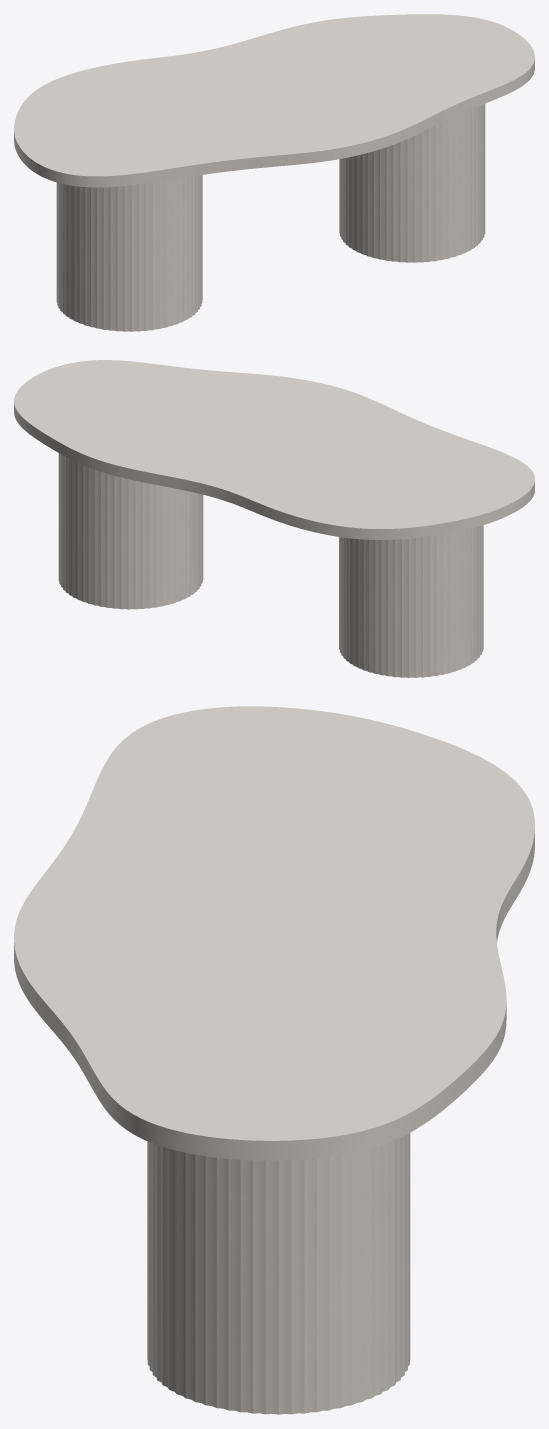
The model's file is pearlwhite_toplast_standard_ripplesecond.glb.
The picture shows the model from 3 angles, top to bottom: view 1: azimuth 30°, elevation 25°; view 2: azimuth 150°, elevation 25°; view 3: azimuth 270°, elevation 25°; orthographic projection. The views are drawn at different scales.
Visible parts, largest first — view 1: standard_toplast, ripplesecond; view 2: standard_toplast, ripplesecond; view 3: standard_toplast, ripplesecond.
Part boxes in pixels (left/top/right/bottom): standard_toplast: left=14, top=14, right=534, bottom=187; ripplesecond: left=56, top=104, right=485, bottom=331; standard_toplast: left=14, top=360, right=534, bottom=539; ripplesecond: left=58, top=453, right=483, bottom=677; standard_toplast: left=14, top=706, right=534, bottom=1160; ripplesecond: left=147, top=1133, right=410, bottom=1414.
Size of the model in its own units: 7.5 by 2.5 by 3.8.
1 material, 1 textured.
